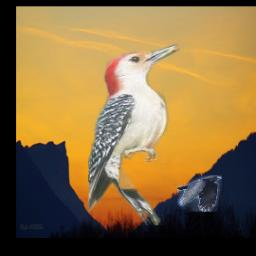Crow: (176, 175, 221, 212)
Woodpecker: (87, 44, 183, 226)
